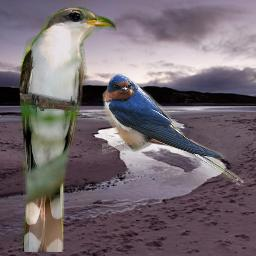Cuckoo: (17, 5, 117, 252)
Swallow: (102, 73, 244, 186)
